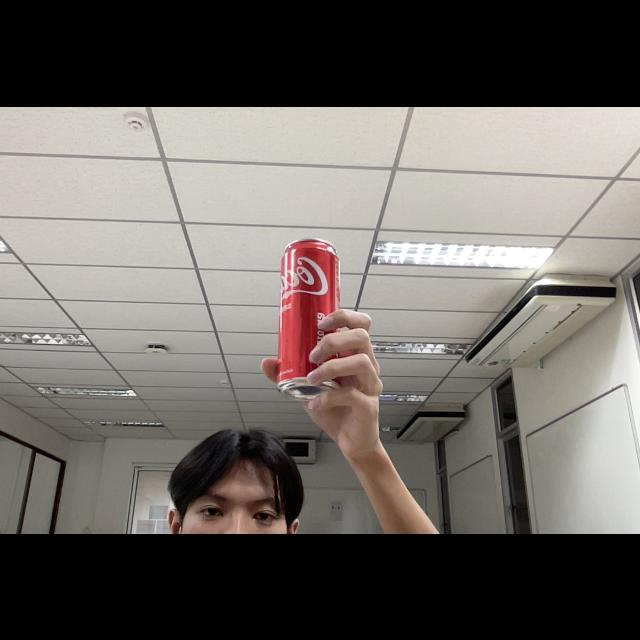plastic_bottle: (276, 234, 342, 400)
